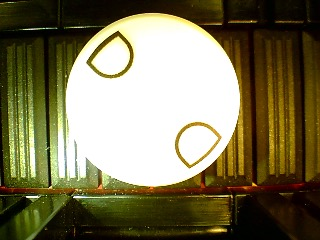MIPO2: (65, 13, 241, 187)
